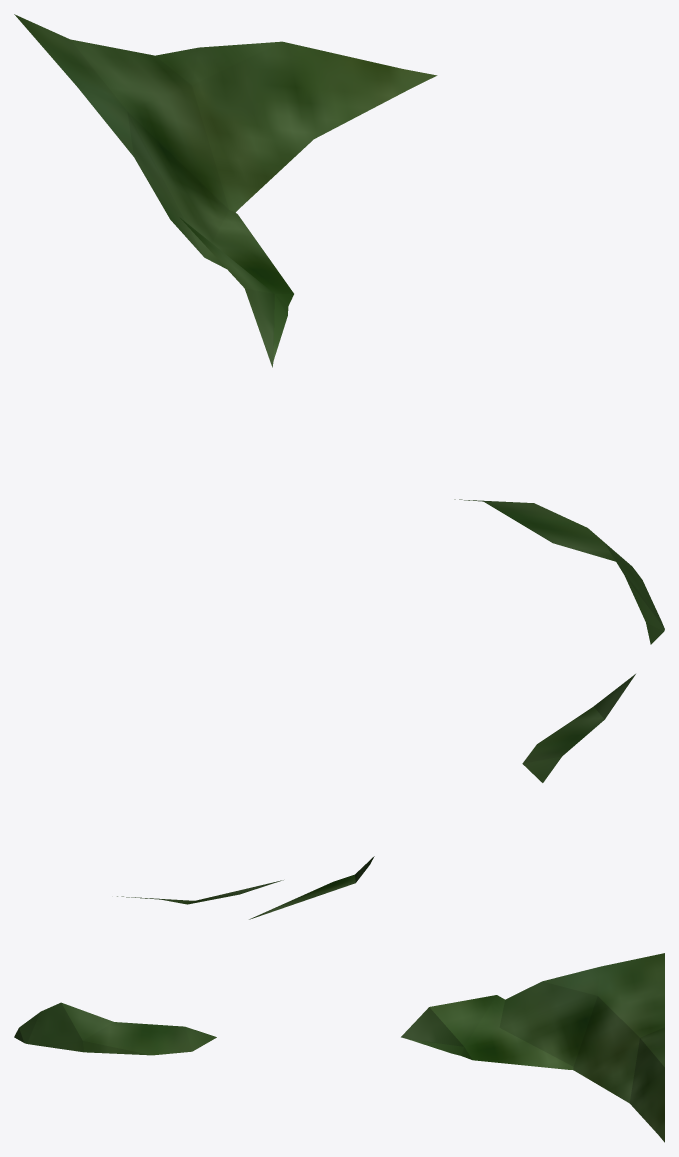
3 renders of one model, top to bottom at view 1: azimuth 30°, elevation 25°; view 2: azimuth 150°, elevation 25°; view 3: azimuth 270°, elevation 25°, orthographic. The views are drawn at different scales.
Size of the model in its own units: 0.1971 by 0.0733 by 0.513.
1 material, 1 textured.
